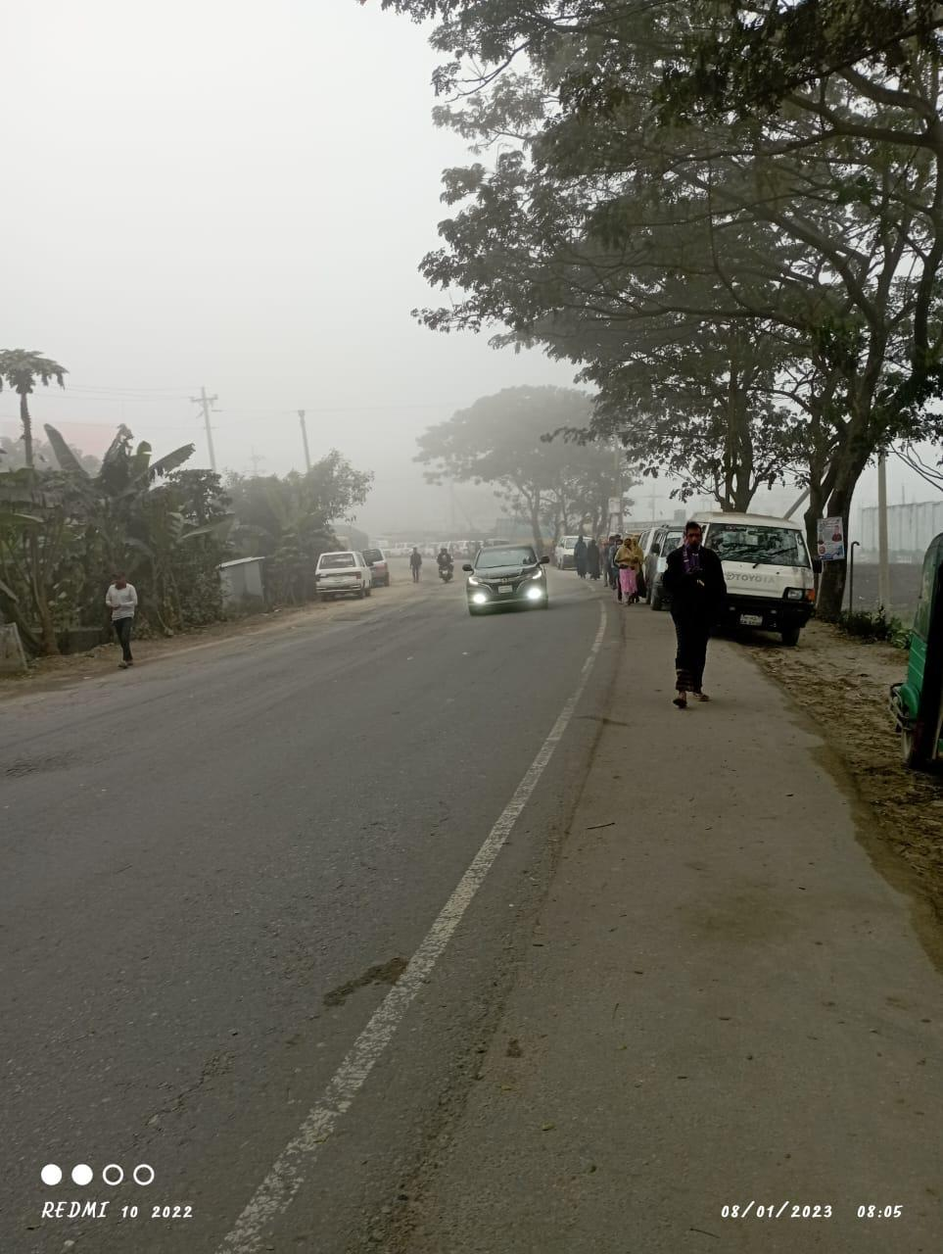Bike: (429, 541, 462, 591)
Car: (683, 502, 824, 648), (458, 538, 550, 622), (309, 544, 373, 603)
